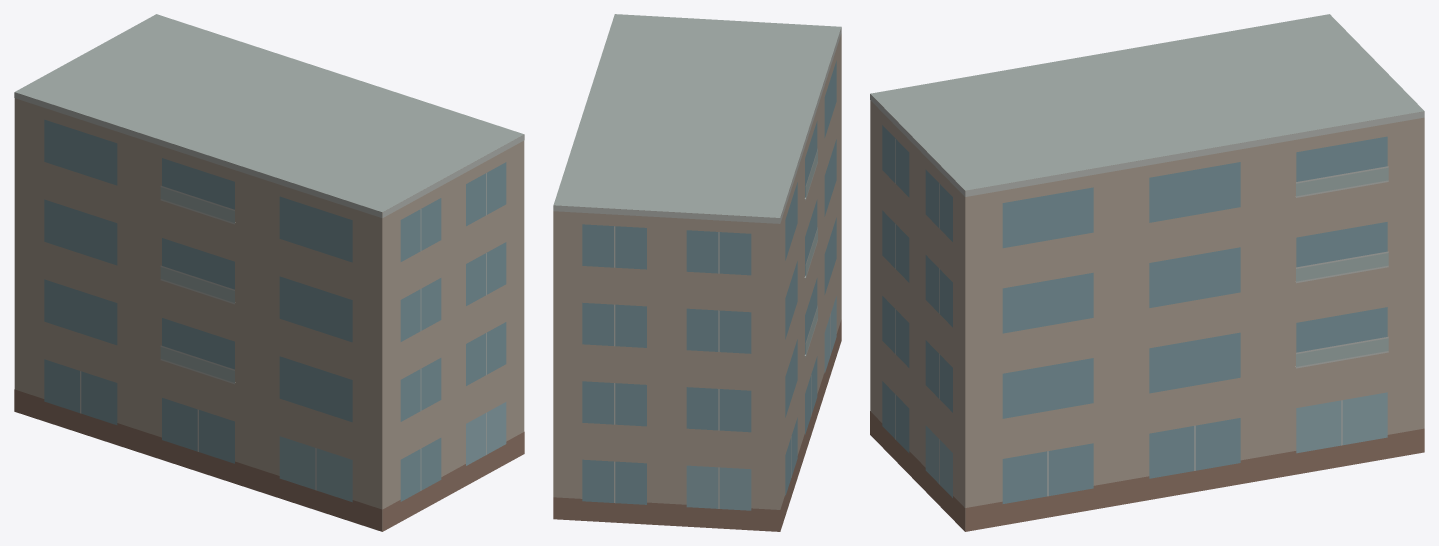
The model's file is survey-upis-32716642.glb.
3 renders of one model, left to right at view 1: azimuth 30°, elevation 25°; view 2: azimuth 150°, elevation 25°; view 3: azimuth 270°, elevation 25°, orthographic. The views are drawn at different scales.
Visible parts, largest first — view 1: survey-upis-32716642.tmp; view 2: survey-upis-32716642.tmp; view 3: survey-upis-32716642.tmp.
Part boxes in pixels (x1,y1,x2,y2): survey-upis-32716642.tmp: [14, 14, 524, 531]; survey-upis-32716642.tmp: [553, 14, 841, 531]; survey-upis-32716642.tmp: [870, 14, 1424, 531].
Bounding box in the file's own units: 14.51 × 13.05 × 19.23.
